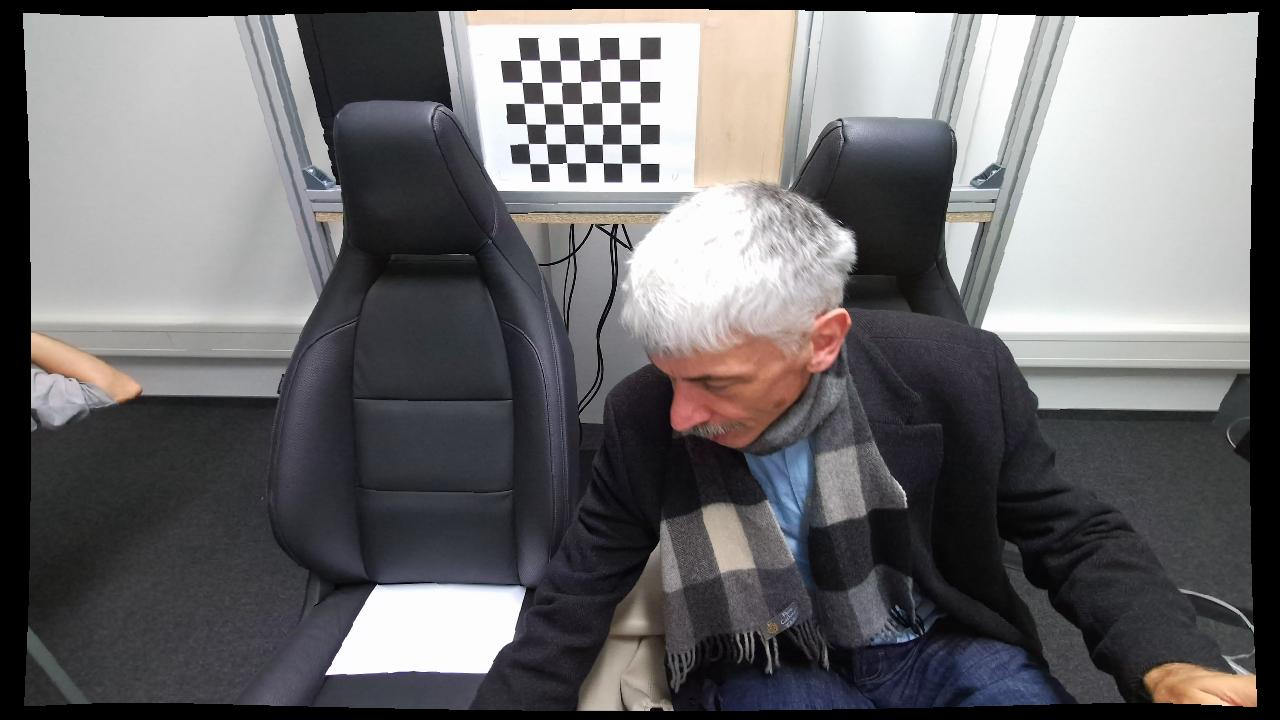Distracted: (464, 177, 1099, 711)
